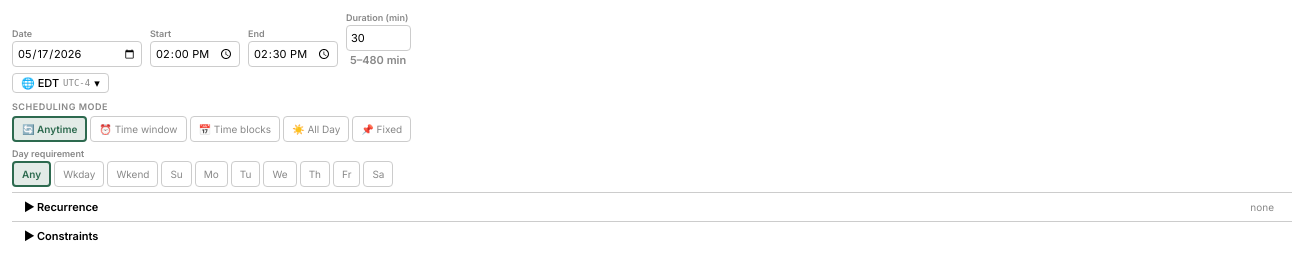
TC-TZ002: clicking the timezone button opens the dropdown › clicking the timezone button shows the search input
Click the button "🌐 EDT UTC-4 ▾".
click(60, 83)  # box [12, 73, 109, 93]
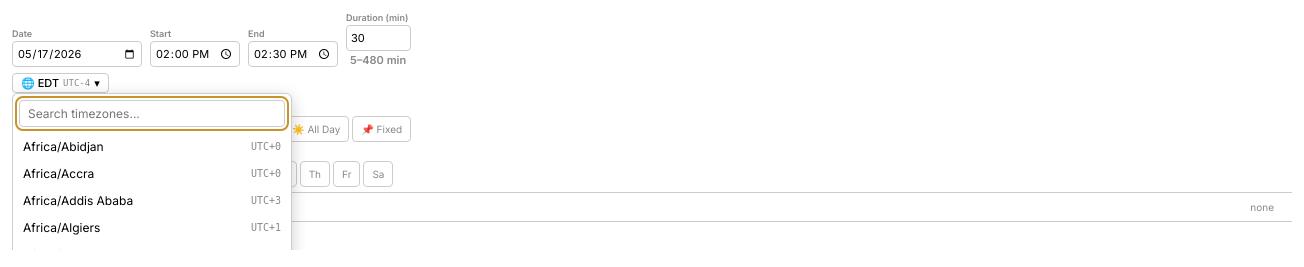
Now the field with placeholder "Search timezones..." is shown, box [19, 100, 285, 127]
